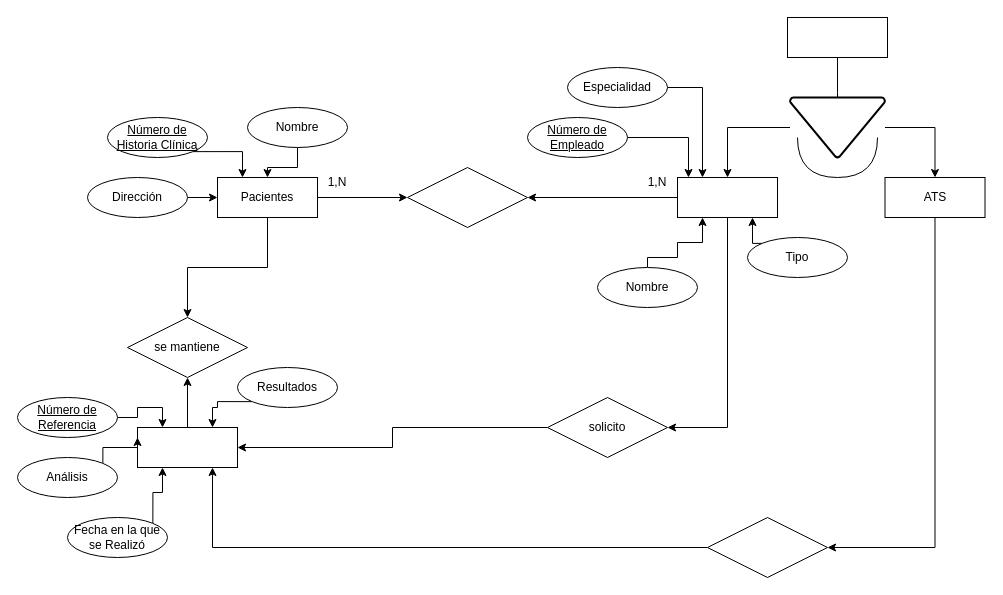
Some shapes in this 1003 by 595 pixel diagram are drawn without their labels. Here are the shapes that lost their labels. From the top down, the box of each, then its label:
(786, 16, 888, 58): Empleados
(788, 96, 886, 158): ISA
(406, 166, 528, 228): es atendido
(676, 176, 778, 218): Médico
(136, 426, 238, 468): Registro de los Análisis
(706, 516, 828, 578): Realizaron
